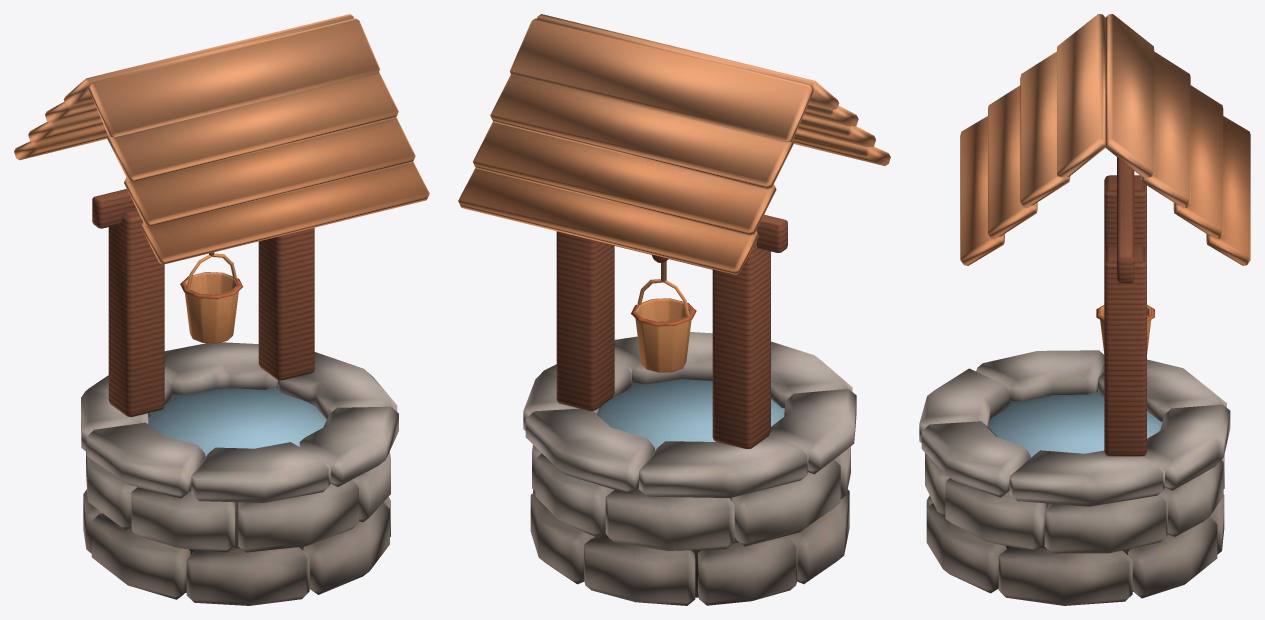
The model's file is well_3_mid.glb.
The picture shows the model from 3 angles, left to right: view 1: azimuth 30°, elevation 25°; view 2: azimuth 150°, elevation 25°; view 3: azimuth 270°, elevation 25°; orthographic projection. The views are drawn at different scales.
Visible parts, largest first — view 1: well_3; view 2: well_3; view 3: well_3.
Boxes of the visible parts, x1,y1,x2,y2 form: well_3: (14,14,429,605); well_3: (458,14,890,605); well_3: (919,14,1250,605).
Bounding box in the file's own units: 1.24 × 2.06 × 1.32.
Materials: 1 (1 with a texture image).
